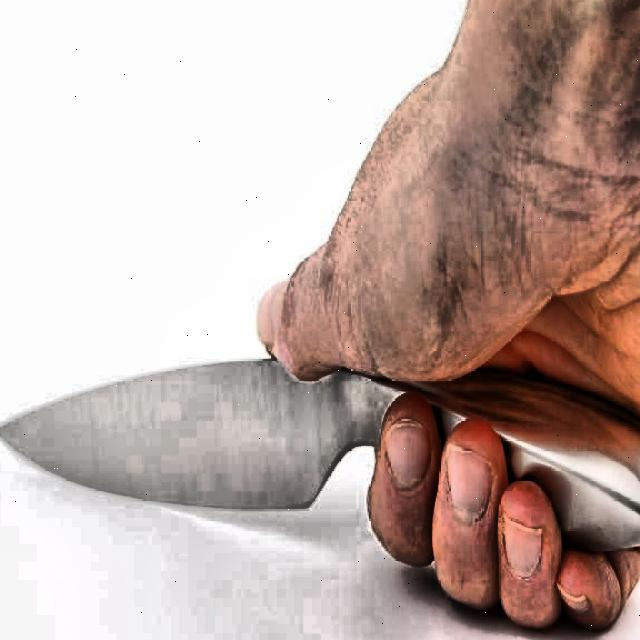knife: (0, 360, 640, 550)
